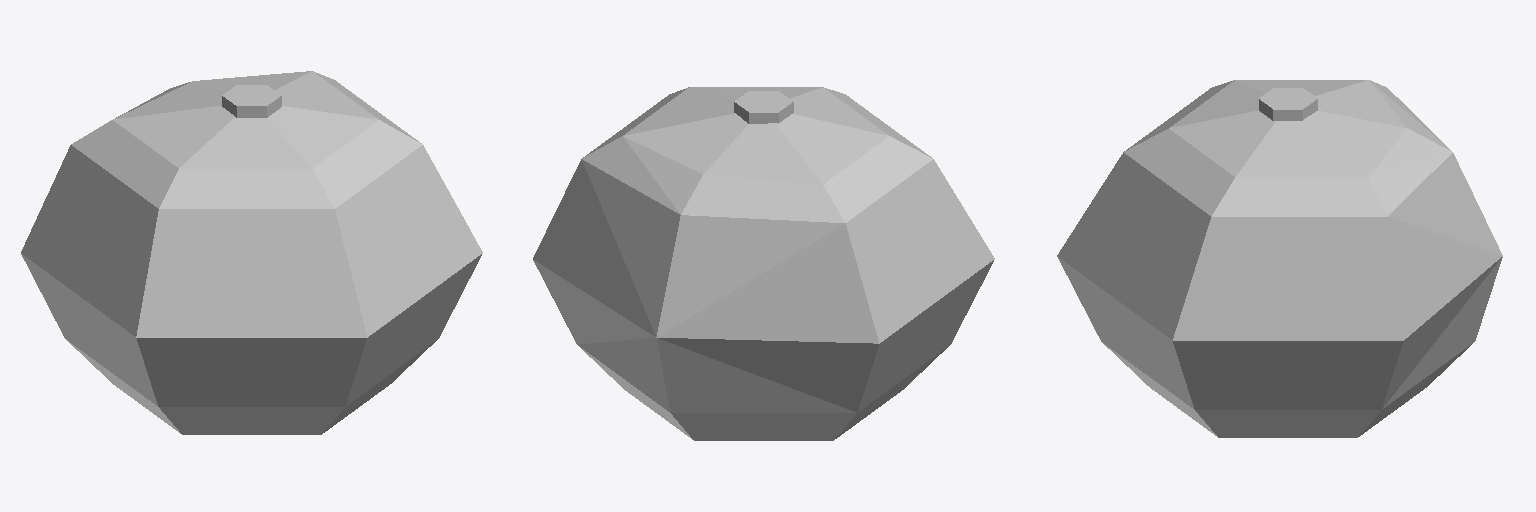
File: orange.obj
3 views of the same model, side by side, from view 1: azimuth 30°, elevation 25°; view 2: azimuth 150°, elevation 25°; view 3: azimuth 270°, elevation 25° (orthographic).
Parts seen in each view (by area): view 1: orange_Sphere.002; view 2: orange_Sphere.002; view 3: orange_Sphere.002.
Boxes of the visible parts, box(x1,y1,x2,y2) form: orange_Sphere.002: box(21, 71, 482, 434); orange_Sphere.002: box(533, 87, 994, 440); orange_Sphere.002: box(1057, 80, 1502, 437).
Size of the model in its own units: 0.6499 by 0.5634 by 0.7238.